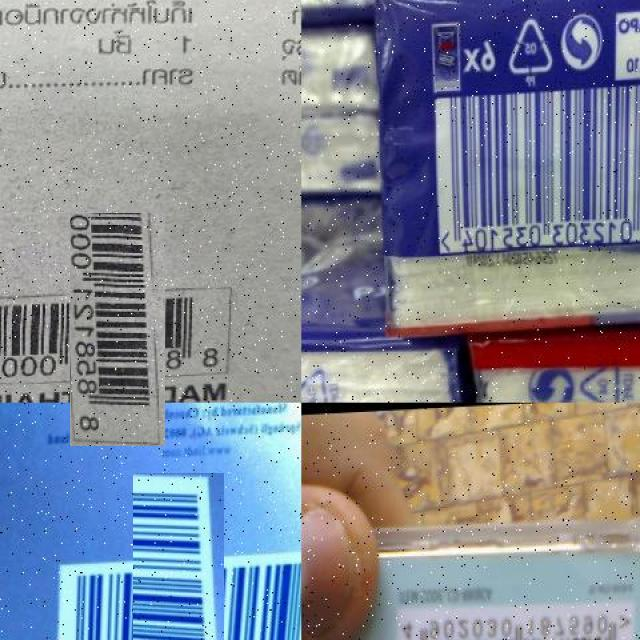Barcode: (437, 82, 640, 250), (35, 247, 199, 412), (95, 510, 263, 640), (396, 590, 636, 640)
